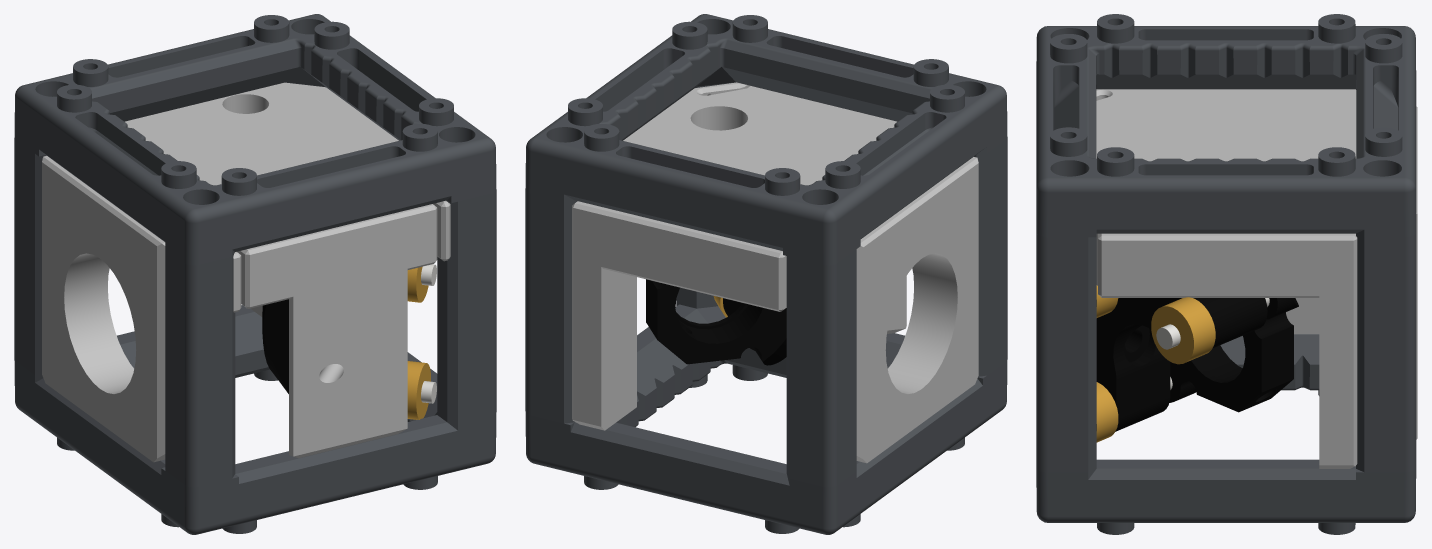
The model's file is ASS_-_GalvoScanner_-XIAOBoardAdapter.glb.
3 views of the same model, side by side, from view 1: azimuth 30°, elevation 25°; view 2: azimuth 150°, elevation 25°; view 3: azimuth 270°, elevation 25° (orthographic). The views are drawn at different scales.
Visible parts, largest first — view 1: PRT - 1003 - CUBHLF111 - V04:2, =>[0:1:1:4], PRT - 1003 - CUBHLF111 - V04:1, BUY - Kinematic mirror mount - ZJB-0.5-3:1; view 2: PRT - 1003 - CUBHLF111 - V04:2, =>[0:1:1:4], PRT - 1003 - CUBHLF111 - V04:1, BUY - Kinematic mirror mount - ZJB-0.5-3:1; view 3: PRT - 1003 - CUBHLF111 - V04:2, =>[0:1:1:4], PRT - 1003 - CUBHLF111 - V04:1, BUY - Kinematic mirror mount - ZJB-0.5-3:1.
Part boxes in pixels (left/top/right/bottom): PRT - 1003 - CUBHLF111 - V04:2: left=14, top=14, right=496, bottom=487; =>[0:1:1:4]: left=42, top=82, right=450, bottom=462; PRT - 1003 - CUBHLF111 - V04:1: left=14, top=138, right=496, bottom=534; BUY - Kinematic mirror mount - ZJB-0.5-3:1: left=262, top=264, right=436, bottom=419; PRT - 1003 - CUBHLF111 - V04:2: left=525, top=14, right=1007, bottom=423; =>[0:1:1:4]: left=572, top=82, right=978, bottom=463; PRT - 1003 - CUBHLF111 - V04:1: left=525, top=82, right=1007, bottom=534; BUY - Kinematic mirror mount - ZJB-0.5-3:1: left=646, top=279, right=786, bottom=365; PRT - 1003 - CUBHLF111 - V04:2: left=1036, top=14, right=1416, bottom=472; =>[0:1:1:4]: left=1096, top=89, right=1417, bottom=468; PRT - 1003 - CUBHLF111 - V04:1: left=1036, top=89, right=1416, bottom=534; BUY - Kinematic mirror mount - ZJB-0.5-3:1: left=1096, top=285, right=1298, bottom=442.
Size of the model in its own units: 56 by 53.8 by 49.99.
